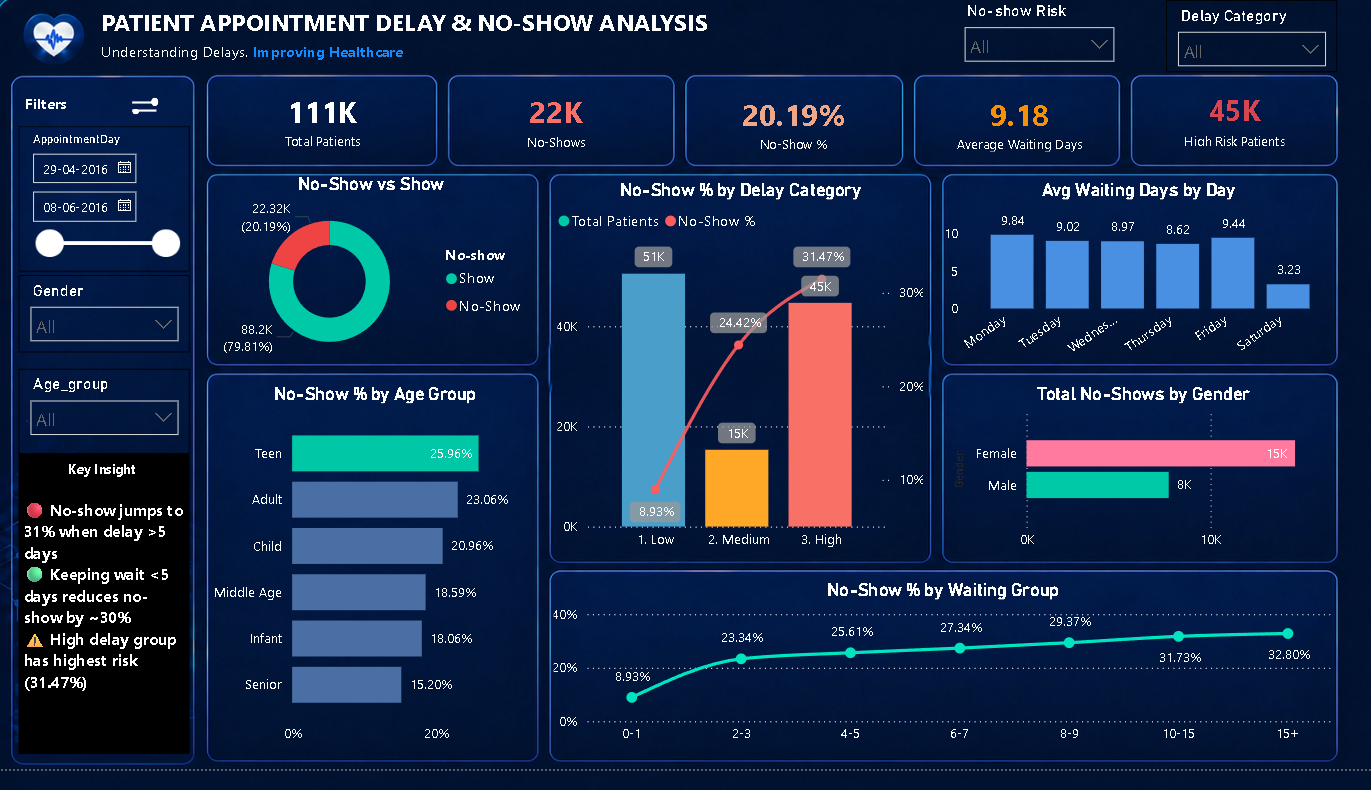

This screenshot's page, from the dashboard's own definition file:
{"tool":"powerbi","page":{"name":"Page 1","canvas":[1280,720],"ordinal":0},"visuals":[{"type":"cardVisual","fields":{"Data":["cleaned_healthcare_dataset.Total Patients"]},"box":[197.7,72.1,212.8,89.5],"z":0},{"type":"shape","box":[126.7,87.2,20.9,25.6],"z":0,"group":"g1"},{"type":"shape","box":[127,99,22.7,17.3],"z":0,"group":"g2"},{"type":"cardVisual","fields":{"Data":["cleaned_healthcare_dataset.Total No-Shows"]},"box":[416.3,73.3,210.5,86],"z":1000},{"type":"shape","box":[144.1,95.3,7,8.1],"z":1000,"group":"g1"},{"type":"shape","box":[127,105.4,6.4,5.2],"z":1000,"group":"g2"},{"type":"cardVisual","fields":{"Data":["cleaned_healthcare_dataset.No-Show %"]},"box":[639.5,75.6,204.7,87.2],"z":2000},{"type":"cardVisual","fields":{"Data":["cleaned_healthcare_dataset.High Risk Patients"]},"box":[1057,74.4,190.7,83.7],"z":3000},{"type":"cardVisual","fields":{"Data":["cleaned_healthcare_dataset.Average Waiting Days"]},"box":[854.7,75.6,195.3,87.2],"z":4000},{"type":"donutChart","title":"No-Show vs Show","fields":{"Category":["cleaned_healthcare_dataset.No-show"],"Y":["CountNonNull(cleaned_healthcare_dataset.No-show)"]},"box":[197.7,165.1,302.3,183.7],"z":5000},{"type":"lineClusteredColumnComboChart","title":"No-Show % by Delay Category","fields":{"Y2":["cleaned_healthcare_dataset.No-Show %"],"Y":["cleaned_healthcare_dataset.Total Patients"],"Category":["cleaned_healthcare_dataset.Delay Category Sorted"]},"box":[517.4,170.9,350,353.5],"z":6000},{"type":"clusteredColumnChart","title":"Avg Waiting Days by Day","fields":{"Y":["Avg(cleaned_healthcare_dataset.Waiting Days)"],"Category":["cleaned_healthcare_dataset.Day Name"]},"box":[877.9,170.9,370.9,177.9],"z":7000},{"type":"clusteredBarChart","title":"No-Show % by Age Group","fields":{"Category":["cleaned_healthcare_dataset.age_group"],"Y":["cleaned_healthcare_dataset.No-Show %"]},"box":[197.7,360.5,309.3,345.3],"z":8000},{"type":"lineChart","fields":{"Y":["cleaned_healthcare_dataset.No-Show %"],"Category":["cleaned_healthcare_dataset.Waiting Group"]},"box":[514,543,733.7,162.8],"z":9000},{"type":"clusteredBarChart","fields":{"Category":["cleaned_healthcare_dataset.Gender"],"Y":["cleaned_healthcare_dataset.Total No-Shows"]},"box":[886,360.5,362.8,164],"z":10000},{"type":"slicer","fields":{"Values":["cleaned_healthcare_dataset.Gender"]},"box":[20.9,260.5,159.3,72.1],"z":11000},{"type":"slicer","fields":{"Values":["cleaned_healthcare_dataset.AppointmentDay"]},"box":[20.9,122.1,159.3,134.9],"z":12000},{"type":"slicer","fields":{"Values":["cleaned_healthcare_dataset.age_group"]},"box":[20.9,347.7,159.3,79.1],"z":13000},{"type":"slicer","fields":{"Values":["cleaned_healthcare_dataset.Delay Category"]},"box":[1088.4,4.7,159.3,67.4],"z":14000},{"type":"slicer","fields":{"Values":["cleaned_healthcare_dataset.No-show Risk"]},"box":[890.7,1.2,159.3,74.4],"z":15000},{"type":"textbox","box":[93,4.7,633.7,47.7],"z":16000},{"type":"textbox","box":[93,38.4,297.7,30.2],"z":17000},{"type":"textbox","box":[22.1,87.2,81.4,32.6],"z":18000},{"type":"group","id":"g1","title":"Group 1","box":[126.7,87.2,24.4,25.6],"z":19000},{"type":"group","id":"g2","title":"Group 2","box":[127,99,22.7,17.3],"z":20000},{"type":"textbox","box":[20.9,434.9,159.3,270.9],"z":21000}]}

Visuals, with their boxes in screenshot pixels (x1, y1, x2, y2), scaled from the page's 1280x720 canvas onto the 1371x790 screenshot:
cardVisual - cleaned_healthcare_dataset.Total Patients: <box>212,79,440,177</box>
shape: <box>136,96,158,124</box>
shape: <box>136,109,160,128</box>
cardVisual - cleaned_healthcare_dataset.Total No-Shows: <box>446,80,671,175</box>
shape: <box>154,105,162,113</box>
shape: <box>136,116,143,121</box>
cardVisual - cleaned_healthcare_dataset.No-Show %: <box>685,83,904,179</box>
cardVisual - cleaned_healthcare_dataset.High Risk Patients: <box>1132,82,1336,173</box>
cardVisual - cleaned_healthcare_dataset.Average Waiting Days: <box>915,83,1125,179</box>
"No-Show vs Show" donutChart: <box>212,181,536,383</box>
"No-Show % by Delay Category" lineClusteredColumnComboChart: <box>554,188,929,575</box>
"Avg Waiting Days by Day" clusteredColumnChart: <box>940,188,1338,383</box>
"No-Show % by Age Group" clusteredBarChart: <box>212,396,543,774</box>
lineChart - cleaned_healthcare_dataset.No-Show % x cleaned_healthcare_dataset.Waiting Group: <box>551,596,1336,774</box>
clusteredBarChart - cleaned_healthcare_dataset.Gender x cleaned_healthcare_dataset.Total No-Shows: <box>949,396,1338,575</box>
slicer - cleaned_healthcare_dataset.Gender: <box>22,286,193,365</box>
slicer - cleaned_healthcare_dataset.AppointmentDay: <box>22,134,193,282</box>
slicer - cleaned_healthcare_dataset.age_group: <box>22,382,193,468</box>
slicer - cleaned_healthcare_dataset.Delay Category: <box>1166,5,1336,79</box>
slicer - cleaned_healthcare_dataset.No-show Risk: <box>954,1,1125,83</box>
textbox: <box>100,5,778,57</box>
textbox: <box>100,42,418,75</box>
textbox: <box>24,96,111,131</box>
"Group 1" group: <box>136,96,162,124</box>
"Group 2" group: <box>136,109,160,128</box>
textbox: <box>22,477,193,774</box>
